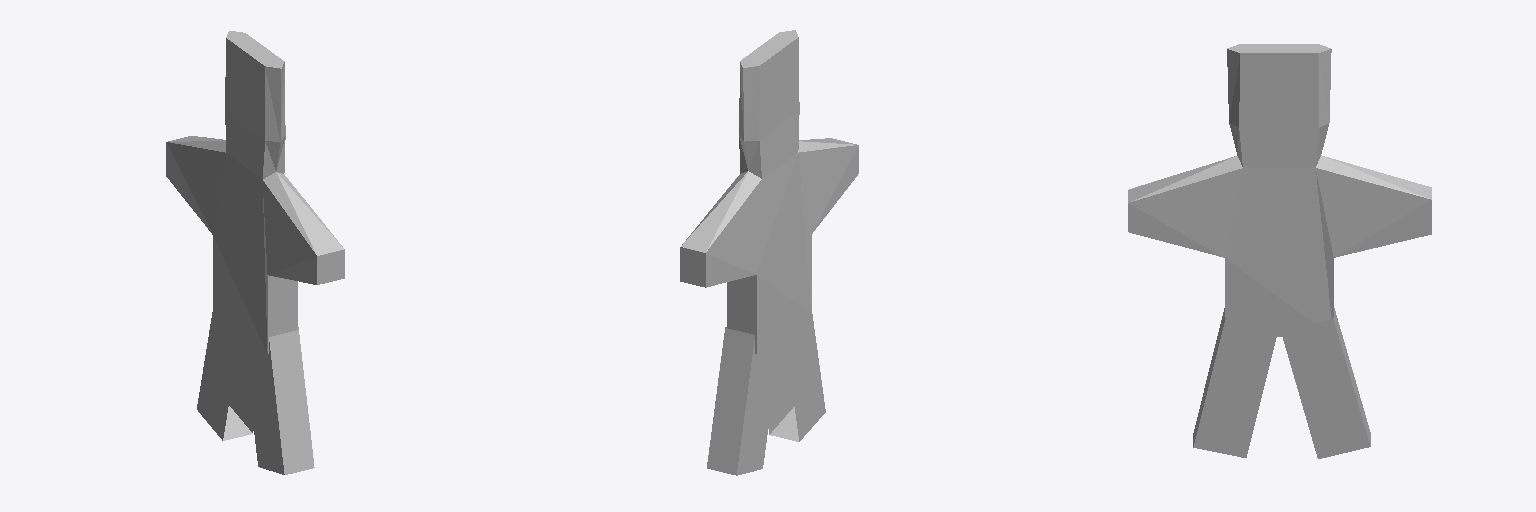
The model's file is Character_1.obj.
The picture shows the model from 3 angles: view 1: azimuth 30°, elevation 25°; view 2: azimuth 150°, elevation 25°; view 3: azimuth 270°, elevation 25°; orthographic projection.
Visible parts, largest first — view 1: Cube; view 2: Cube; view 3: Cube.
Part boxes in pixels (x1,y1,x2,y2): Cube: (166, 31, 344, 474); Cube: (680, 30, 858, 475); Cube: (1128, 44, 1431, 458).
Bounding box in the file's own units: 0.6789 × 8.39 × 5.59.